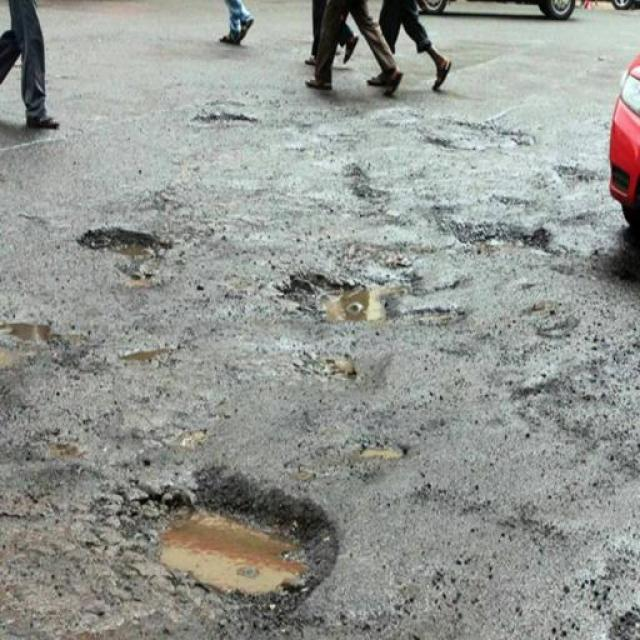puddle: (149, 501, 339, 622), (308, 277, 407, 338), (90, 222, 175, 278)
